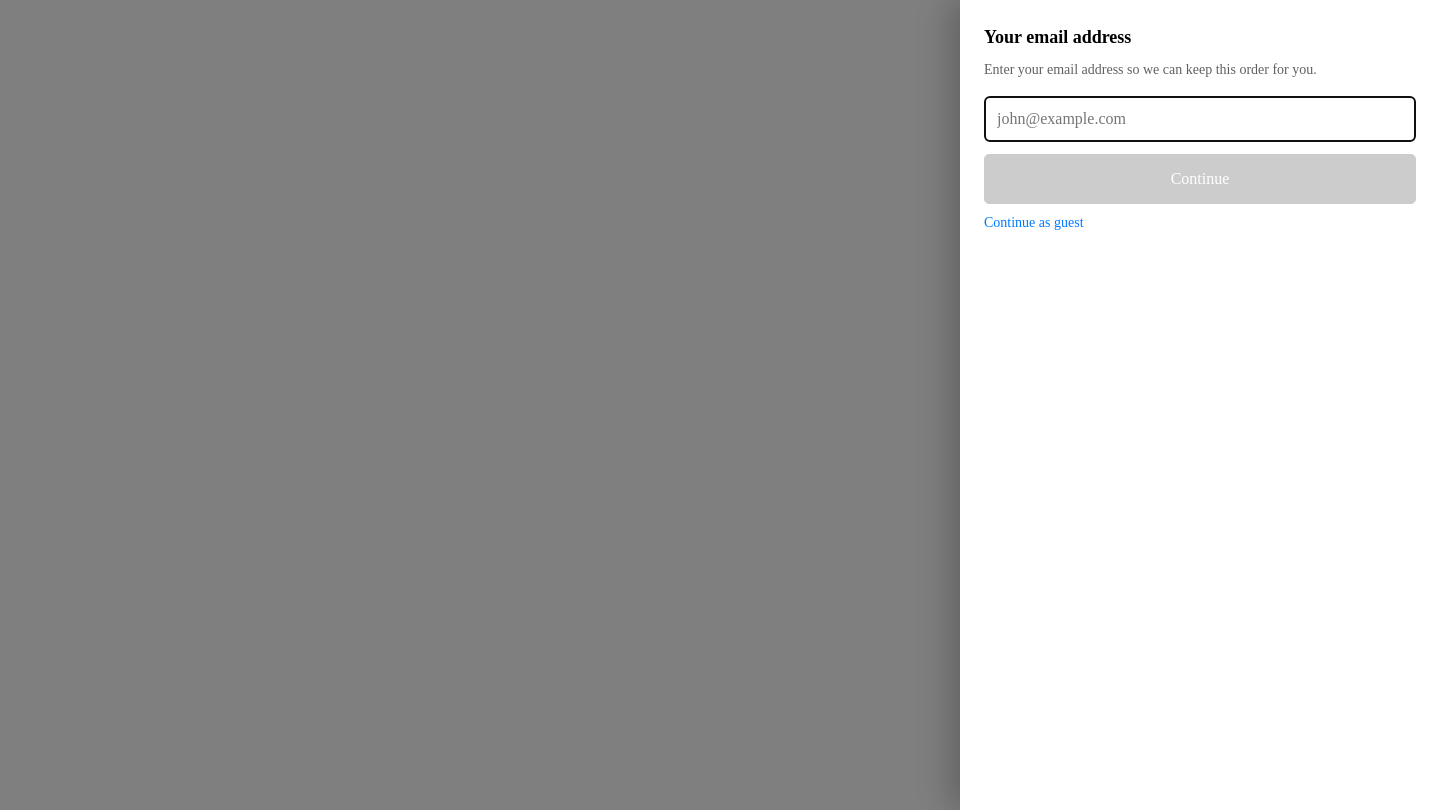
Test case: GuestEmailDialog › can't be clicked away from while it's saving the email address
Later steps or results of the test are not shown.
Step 1. Type "jo@example.com" into the field named "Email address" → (1200, 119), box [984, 96, 1416, 142]
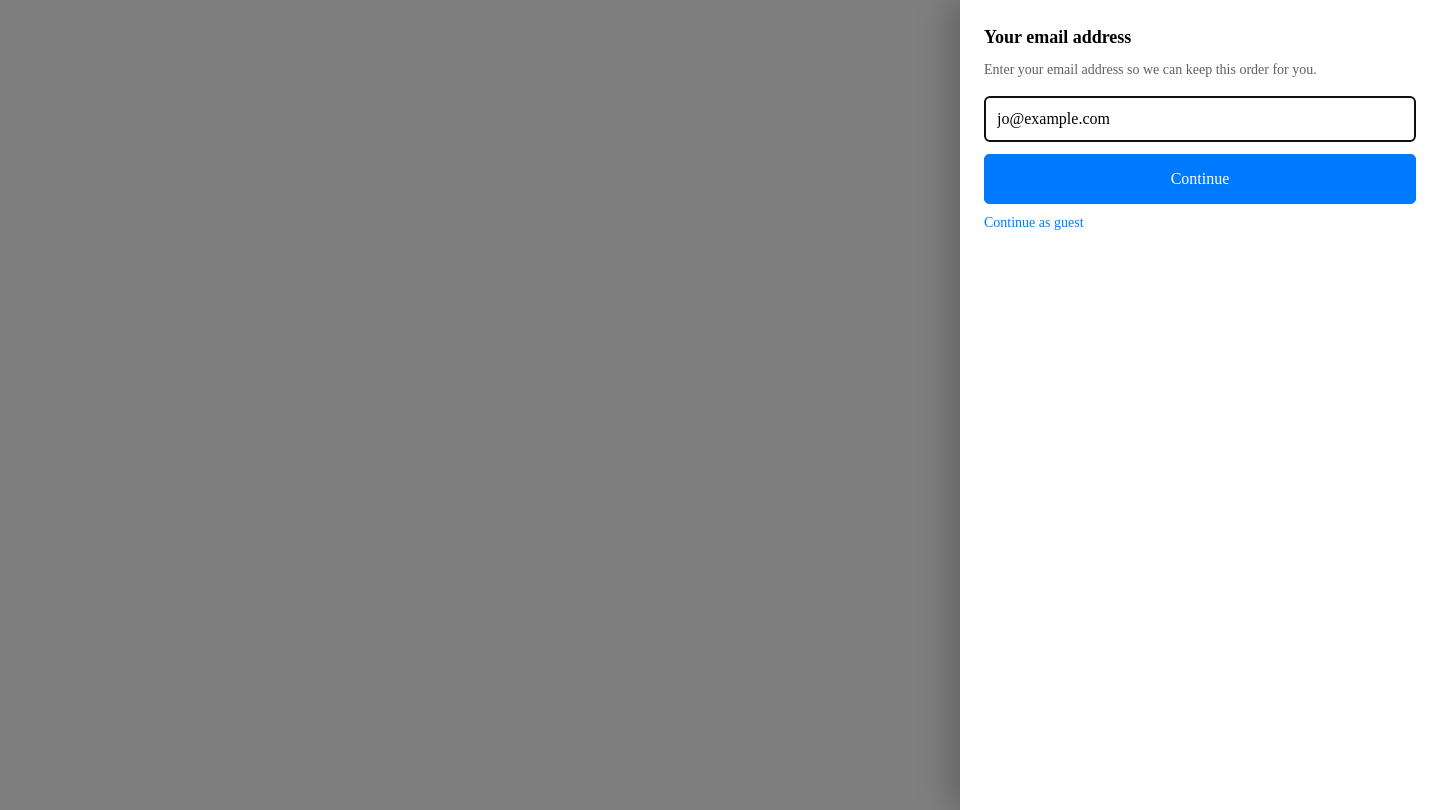
Step 2. Click the button "Continue" → (1200, 179), box [984, 154, 1416, 204]
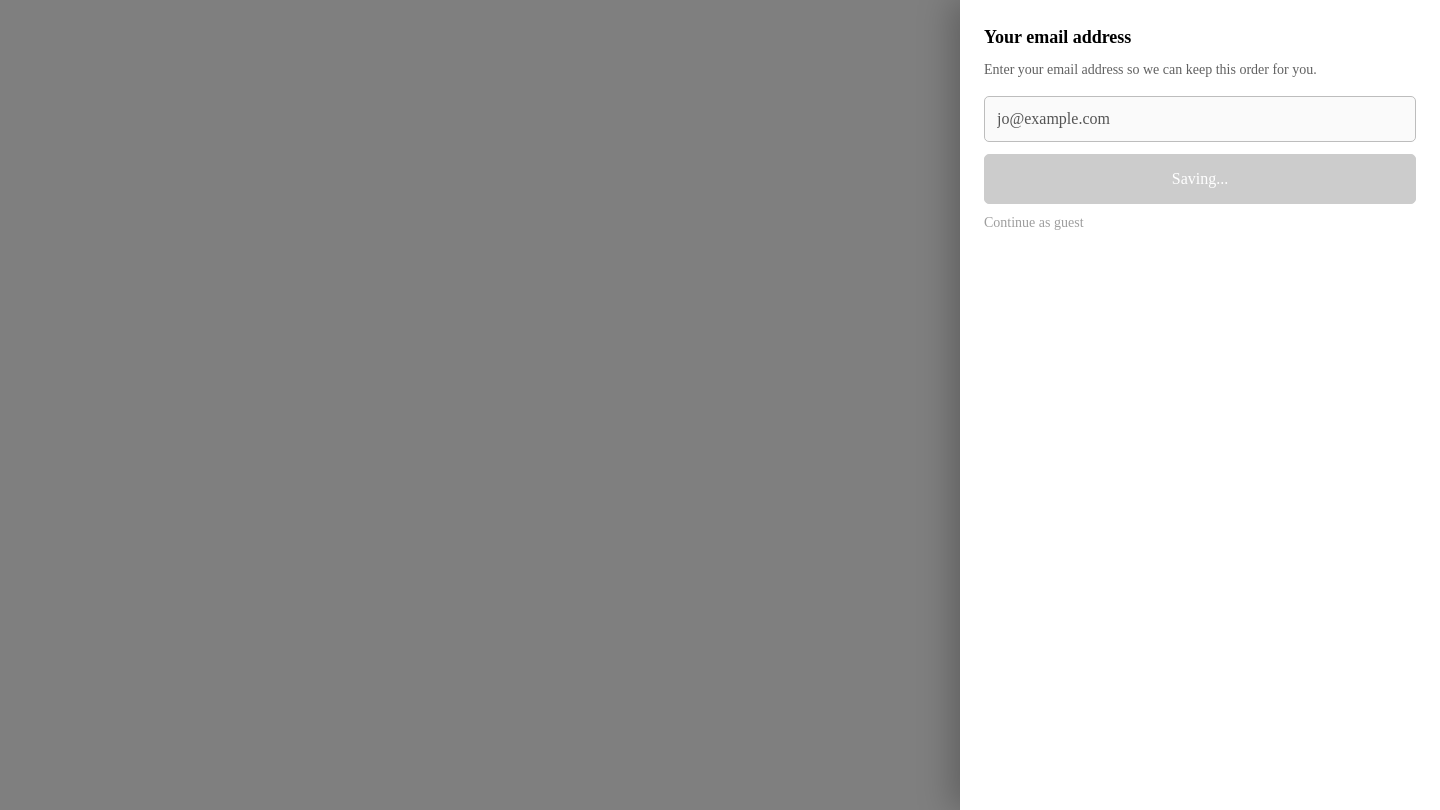
Expected: the button "Saving..." is shown, [984, 154, 1416, 204]
